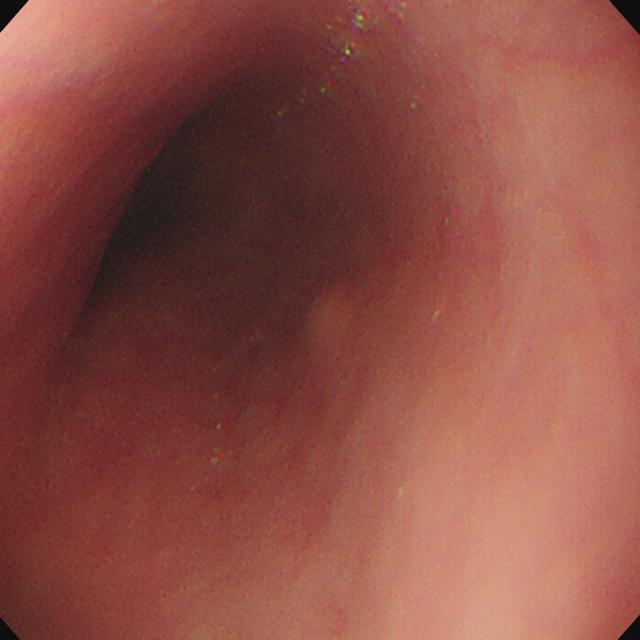U: (324, 2, 374, 65)
